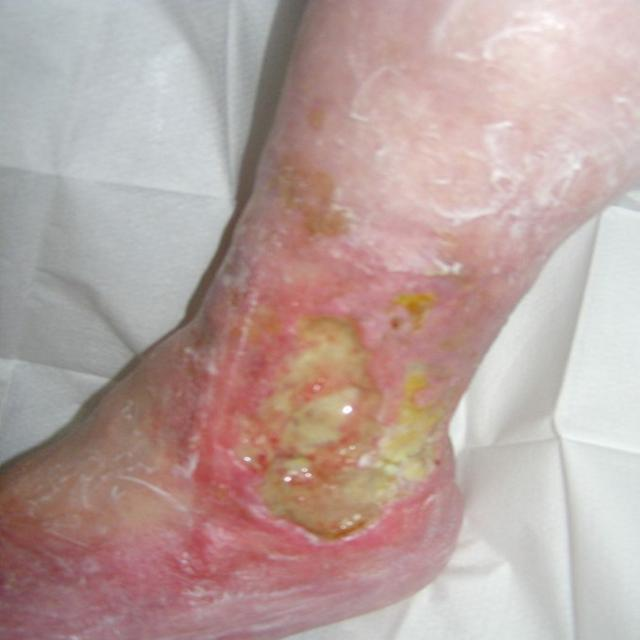wound: (178, 290, 467, 560)
